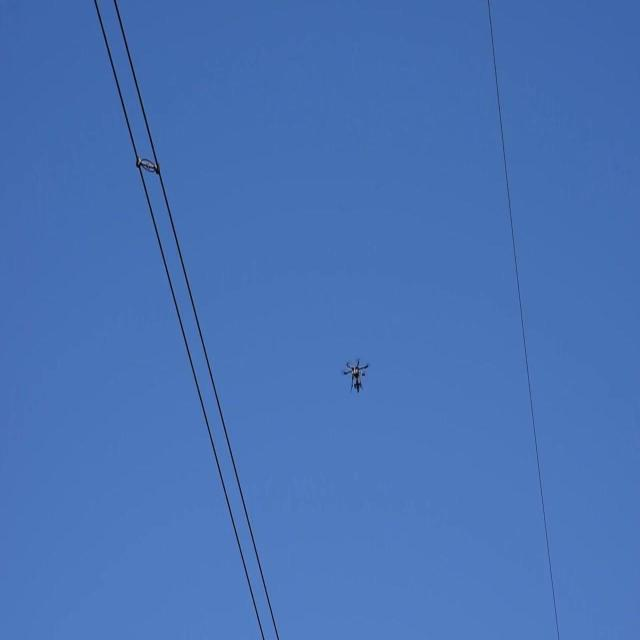drone: (342, 360, 372, 396)
